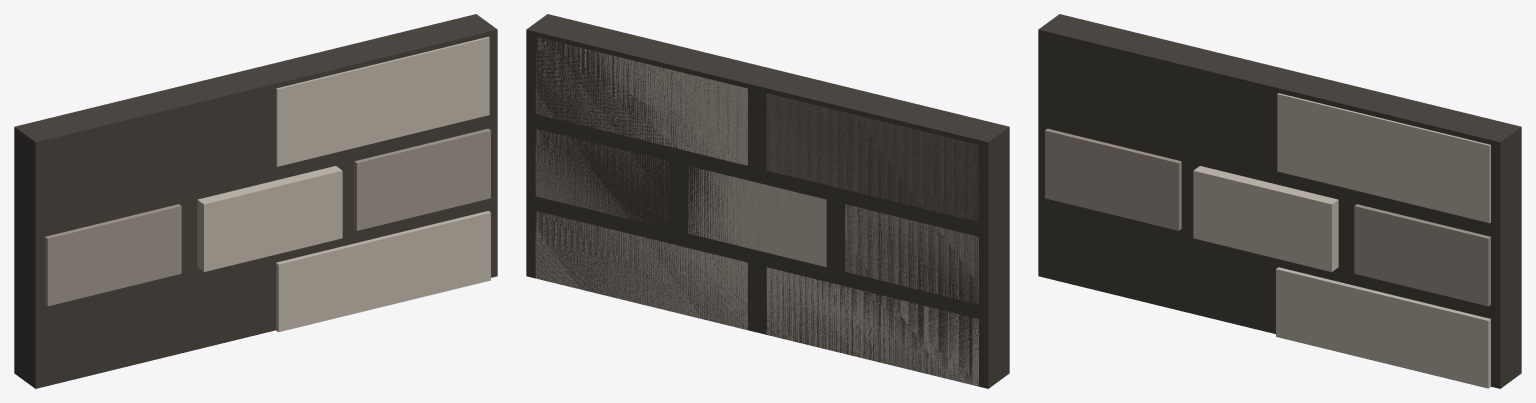
Rendered from faixa_do_piso.glb.
The picture shows the model from 3 angles, left to right: view 1: azimuth 30°, elevation 25°; view 2: azimuth 150°, elevation 25°; view 3: azimuth 330°, elevation 25°; orthographic projection.
Visible parts, largest first — view 1: Nucleo, Fiada_0_1, Fiada_2_1, Fiada_1_1, Fiada_1_0, Fiada_1_2; view 2: Nucleo, Fiada_0_0, Fiada_2_1, Fiada_0_1, Fiada_2_0, Fiada_1_1, Fiada_1_0, Fiada_1_2; view 3: Nucleo, Fiada_0_1, Fiada_2_1, Fiada_1_1, Fiada_1_2, Fiada_1_0.
Part boxes in pixels (box(x1,y1,x2,y2)): Nucleo: box(14, 14, 497, 388); Fiada_0_1: box(276, 36, 489, 166); Fiada_2_1: box(276, 211, 490, 332); Fiada_1_1: box(197, 166, 342, 271); Fiada_1_0: box(45, 204, 181, 306); Fiada_1_2: box(354, 128, 490, 230); Nucleo: box(526, 14, 1009, 388); Fiada_0_0: box(766, 93, 978, 222); Fiada_2_1: box(535, 211, 747, 330); Fiada_0_1: box(535, 37, 747, 165); Fiada_2_0: box(766, 267, 978, 386); Fiada_1_1: box(688, 167, 826, 267); Fiada_1_0: box(845, 204, 978, 303); Fiada_1_2: box(535, 128, 669, 226); Nucleo: box(1038, 14, 1521, 388); Fiada_0_1: box(1277, 93, 1490, 223); Fiada_2_1: box(1276, 267, 1490, 388); Fiada_1_1: box(1193, 166, 1338, 271); Fiada_1_2: box(1354, 204, 1490, 306); Fiada_1_0: box(1045, 128, 1181, 230).
Bounding box in the file's own units: 2 × 1.02 × 0.21.
